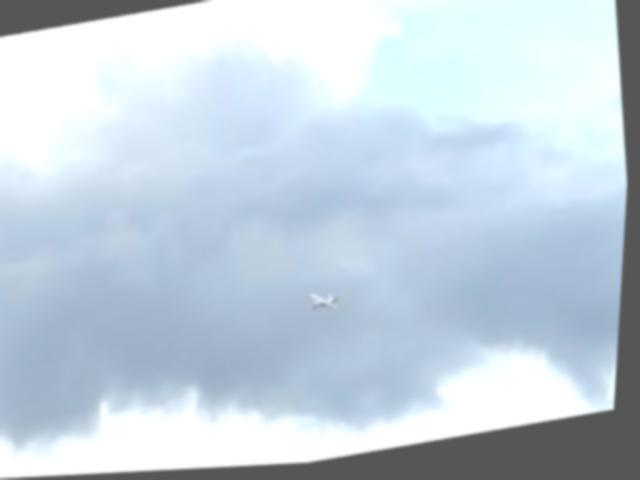uav: (304, 285, 350, 327)
